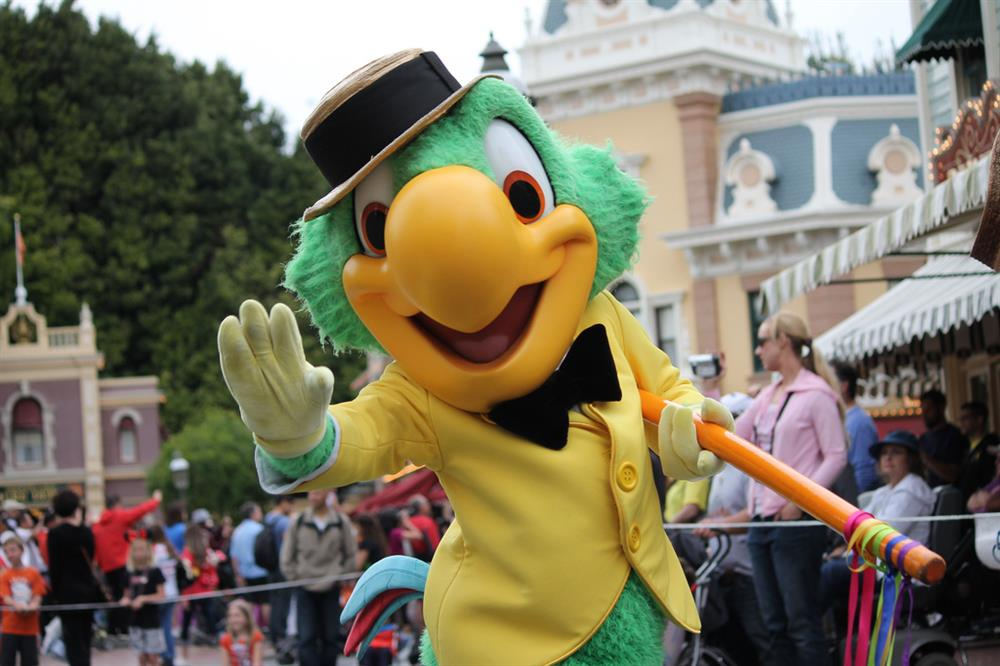Jose_Carioca: (222, 58, 717, 649)
